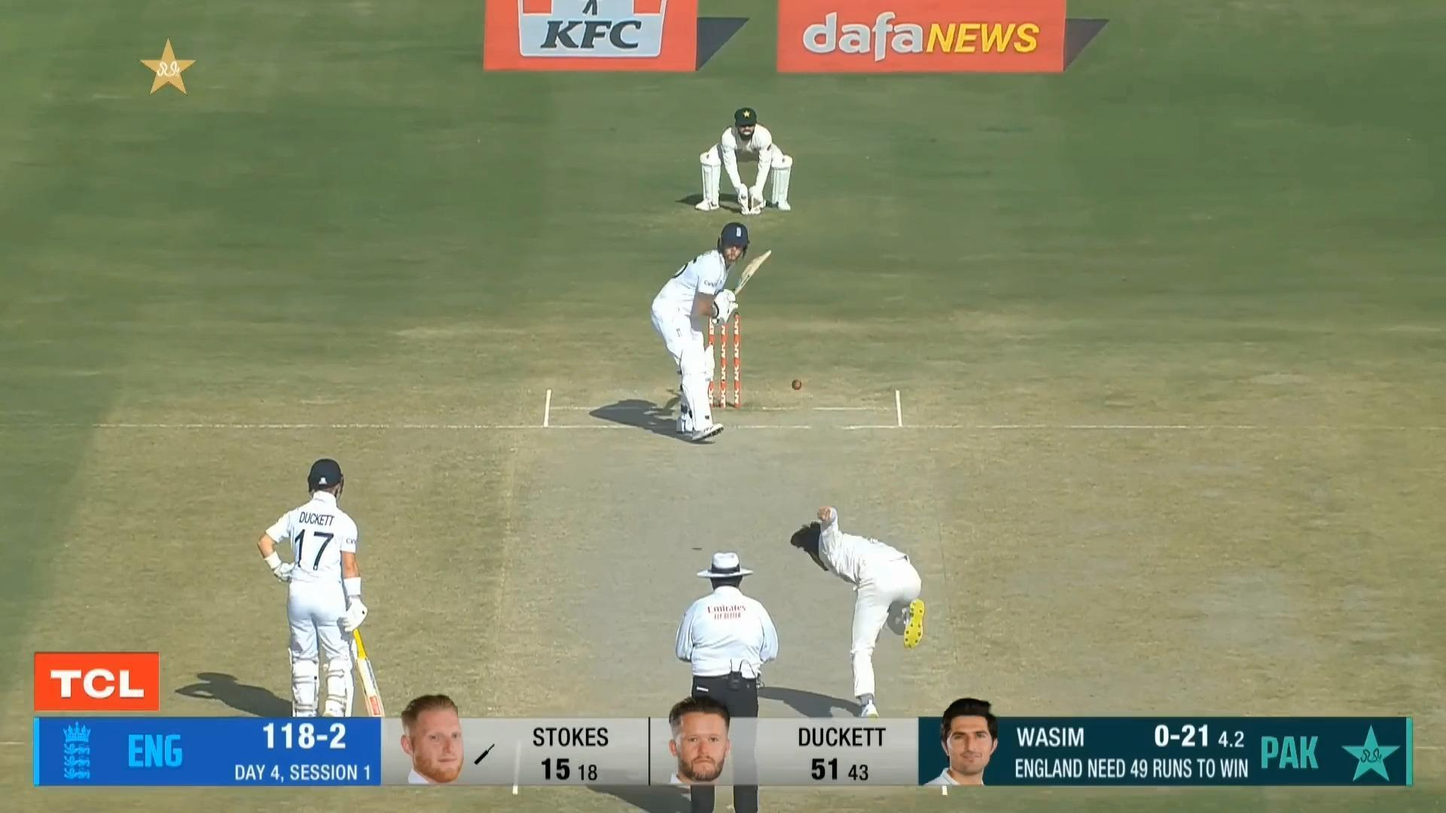BM 1: (650, 222, 773, 443)
BO: (789, 505, 927, 733)
